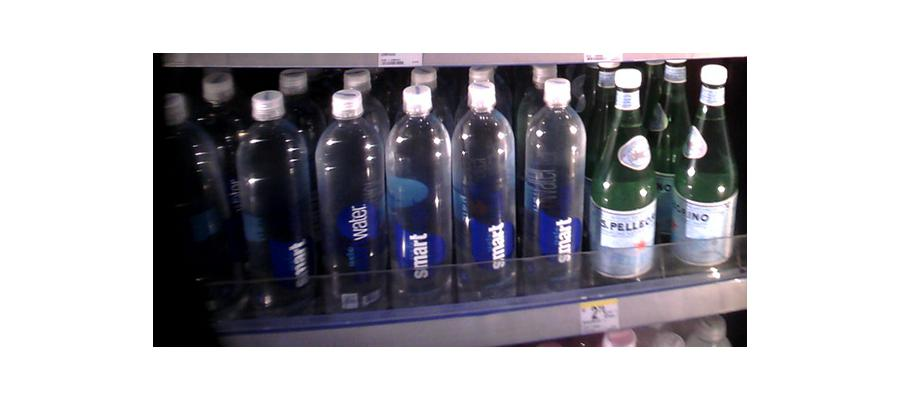bottle: (237, 90, 310, 324), (313, 88, 385, 313), (518, 78, 590, 296), (450, 77, 517, 303), (161, 97, 229, 318), (593, 65, 659, 289), (386, 84, 451, 309), (677, 68, 737, 280)
